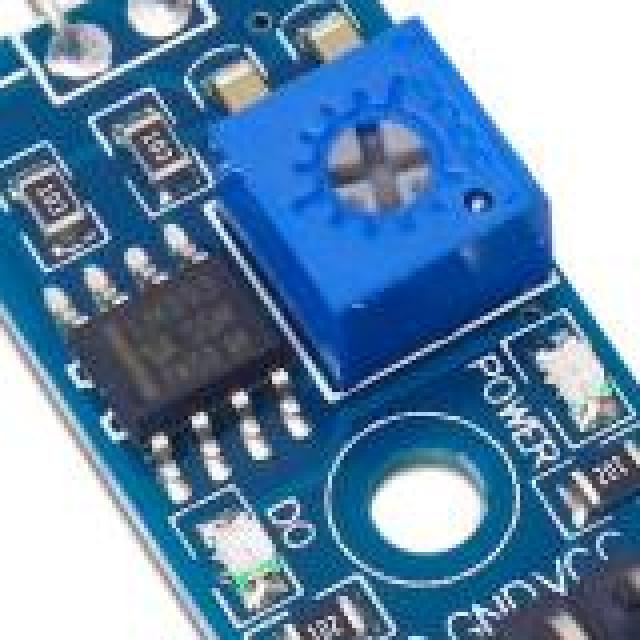IC: (64, 236, 304, 474)
LED: (544, 324, 626, 442), (196, 512, 284, 604)
capacitor: (296, 4, 372, 68), (196, 48, 264, 116)
connector: (424, 564, 640, 640)
potentiometer: (232, 20, 548, 328)
resistor: (116, 88, 204, 212), (12, 144, 82, 260), (260, 568, 368, 640), (568, 432, 640, 508)
